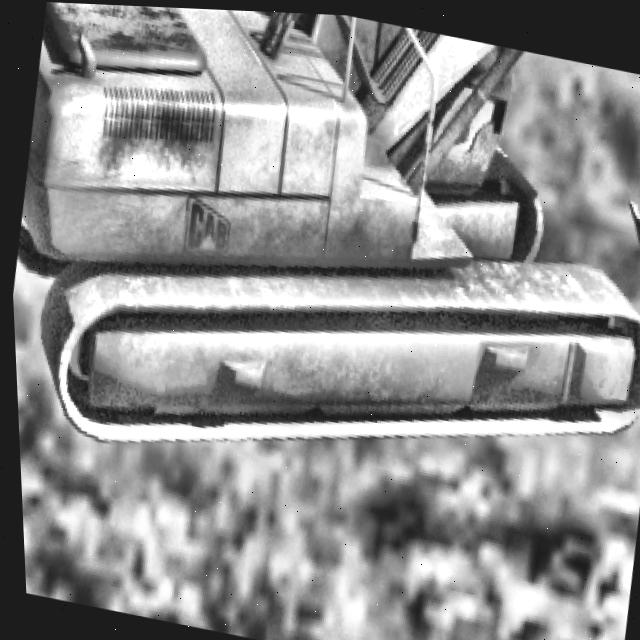excavator: (0, 0, 640, 545)
